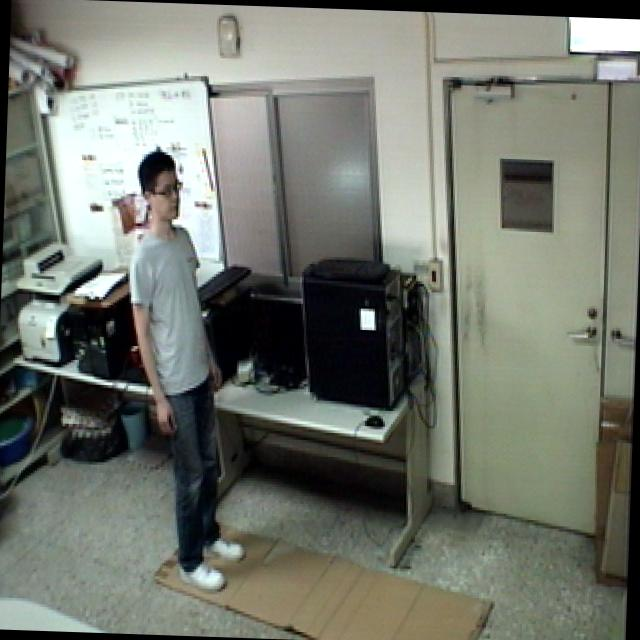stand: (111, 141, 264, 606)
